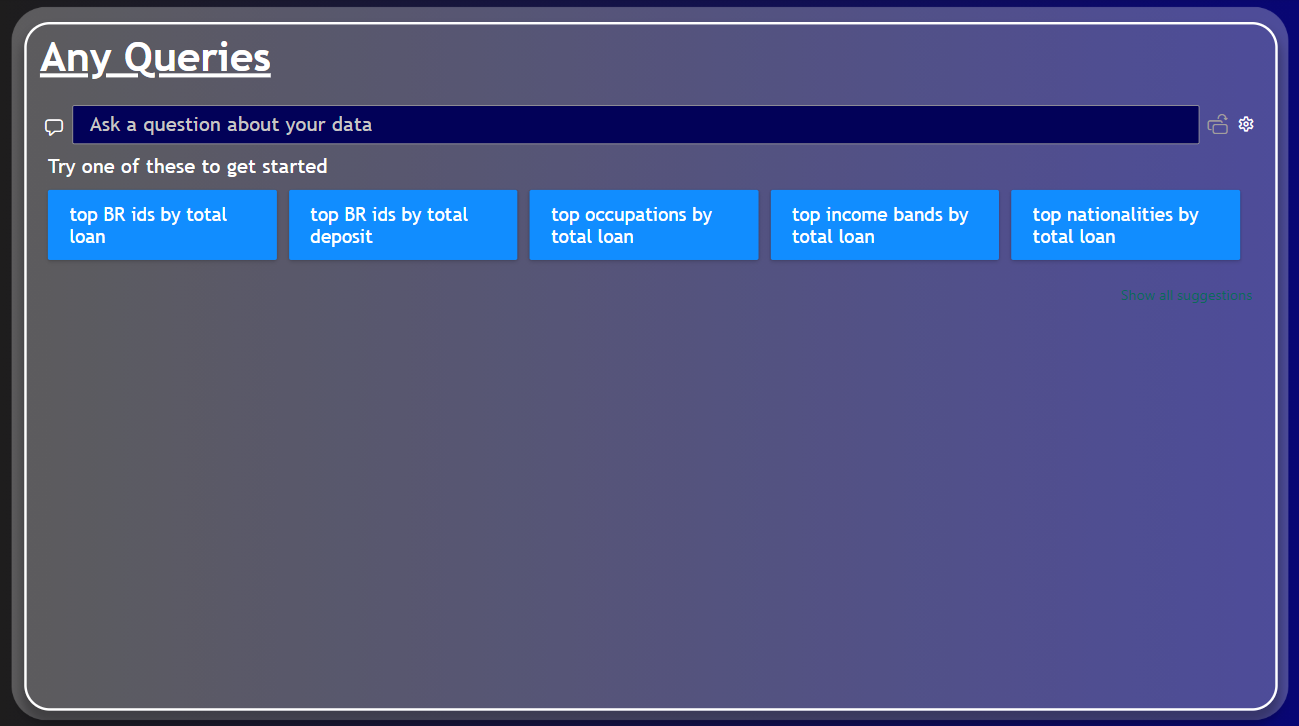

Layout of this report page (visuals, bound fields, positions):
{"tool":"powerbi","page":{"name":"QnA","canvas":[1280,720],"ordinal":4},"visuals":[{"type":"qnaVisual","title":"Any Queries","box":[25.7,24.3,1230,675.7],"z":0}]}

Visuals, with their boxes in screenshot pixels (x1, y1, x2, y2), scaled from the page's 1280x720 canvas onto the 1299x726 screenshot:
"Any Queries" qnaVisual: (x1=26, y1=25, x2=1274, y2=706)
